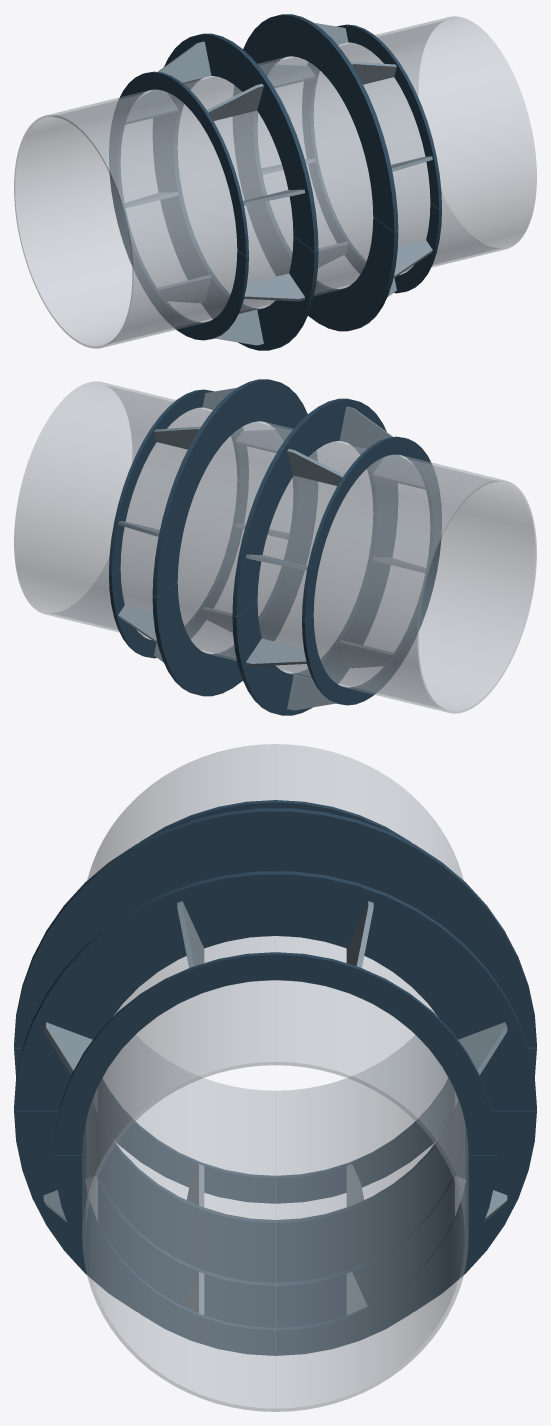
Rendered from TS-667.00.00-04-opora-dn820-D1110.glb.
3 views of the same model, one above another, from view 1: azimuth 30°, elevation 25°; view 2: azimuth 150°, elevation 25°; view 3: azimuth 270°, elevation 25° (orthographic). The views are drawn at different scales.
Visible parts, largest first — view 1: truba, polukoltso_1, polukoltso_13, polukoltso_7, polukoltso_19, polukoltso_usil_12, polukoltso_usil_24, polukoltso_usil_18, polukoltso_usil_6, rebro_9, rebro_20, rebro_10 (+7 smaller); view 2: truba, polukoltso_1, polukoltso_13, polukoltso_7, polukoltso_19, polukoltso_usil_12, polukoltso_usil_24, polukoltso_usil_18, polukoltso_usil_6, rebro_10, rebro_23, rebro_9 (+7 smaller); view 3: truba, polukoltso_1, polukoltso_7, polukoltso_13, polukoltso_19, polukoltso_usil_6, polukoltso_usil_18, polukoltso_usil_24, polukoltso_usil_12, rebro_2, rebro_5, rebro_3 (+1 smaller).
Boxes of the visible parts, x1,y1,x2,y2 form: truba: (14,16,536,348); polukoltso_1: (233,14,398,231); polukoltso_13: (233,116,398,331); polukoltso_7: (153,33,318,251); polukoltso_19: (153,134,318,350); polukoltso_usil_12: (109,71,248,256); polukoltso_usil_24: (109,157,248,340); polukoltso_usil_18: (302,109,441,293); polukoltso_usil_6: (302,24,441,208); rebro_9: (158,41,211,82); rebro_20: (244,273,305,301); rebro_10: (207,84,263,120); truba: (14,381,536,713); polukoltso_1: (152,379,317,596); polukoltso_13: (152,481,317,696); polukoltso_7: (232,398,397,616); polukoltso_19: (232,499,397,715); polukoltso_usil_12: (302,436,441,621); polukoltso_usil_24: (302,522,441,705); polukoltso_usil_18: (109,474,248,658); polukoltso_usil_6: (109,389,248,573); rebro_10: (339,406,392,447); rebro_23: (245,638,306,666); rebro_9: (287,449,343,485); truba: (82,744,468,1411); polukoltso_1: (14,871,536,1110); polukoltso_7: (14,808,536,1047); polukoltso_13: (14,1110,536,1327); polukoltso_19: (14,1047,536,1282); polukoltso_usil_6: (54,952,496,1154); polukoltso_usil_18: (54,1155,496,1355); polukoltso_usil_24: (98,1079,452,1203); polukoltso_usil_12: (139,800,411,842); rebro_2: (458,1022,507,1074); rebro_5: (43,1022,92,1074); rebro_3: (346,901,373,967).
Size of the model in its own units: 1596 by 1108 by 1110.
